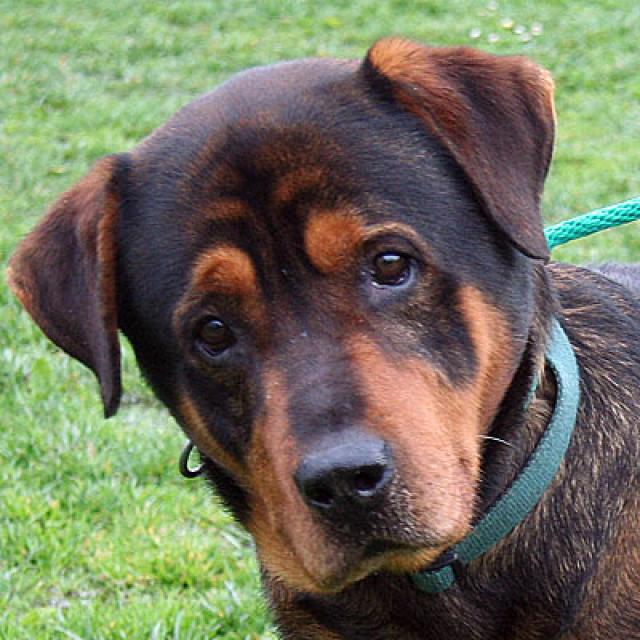dogs: (8, 35, 640, 640)
